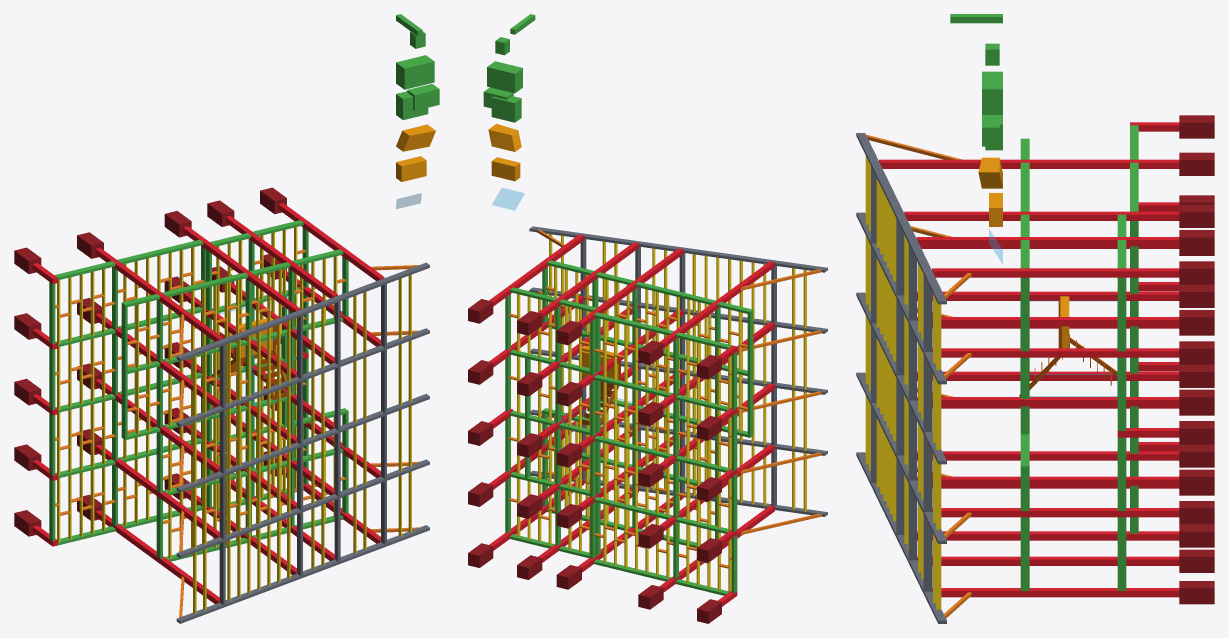
The model's file is tinker.obj.
3 views of the same model, side by side, from view 1: azimuth 30°, elevation 25°; view 2: azimuth 150°, elevation 25°; view 3: azimuth 270°, elevation 25° (orthographic). The views are drawn at different scales.
Visible parts, largest first — view 1: obj_1, obj_420, obj_2, obj_20, obj_15, obj_3, obj_421, obj_4, obj_11, obj_6, obj_419, obj_7 (+9 smaller); view 2: obj_1, obj_420, obj_2, obj_421, obj_3, obj_4, obj_419, obj_20, obj_15, obj_7, obj_21, obj_12 (+11 smaller); view 3: obj_1, obj_2, obj_3, obj_4, obj_9, obj_18, obj_23, obj_13, obj_17, obj_22, obj_8, obj_16 (+53 smaller).
Part boxes in pixels (x1,y1,x2,y2): obj_1: (95, 247, 222, 341); obj_420: (396, 84, 439, 119); obj_2: (183, 226, 300, 312); obj_20: (95, 510, 219, 603); obj_15: (95, 444, 219, 538); obj_3: (225, 216, 337, 298); obj_421: (396, 55, 434, 89); obj_4: (278, 203, 384, 280); obj_11: (95, 379, 219, 472); obj_6: (95, 313, 219, 407); obj_419: (396, 124, 435, 151); obj_7: (183, 292, 296, 378); obj_1: (659, 261, 774, 347); obj_420: (483, 87, 521, 122); obj_2: (578, 248, 683, 327); obj_421: (487, 61, 522, 93); obj_3: (538, 242, 638, 318); obj_4: (489, 234, 584, 306); obj_419: (488, 123, 521, 151); obj_20: (659, 505, 774, 592); obj_15: (659, 444, 774, 531); obj_7: (578, 310, 683, 389); obj_21: (578, 496, 683, 572); obj_12: (578, 372, 683, 450); obj_1: (879, 159, 1179, 168); obj_2: (904, 211, 1179, 220); obj_3: (916, 237, 1179, 246); obj_4: (932, 268, 1179, 277); obj_9: (932, 348, 1179, 357); obj_18: (932, 508, 1179, 517); obj_23: (932, 588, 1179, 597); obj_13: (917, 397, 1179, 406); obj_17: (917, 476, 1179, 485); obj_22: (917, 556, 1179, 565); obj_8: (917, 317, 1179, 326); obj_16: (917, 451, 1179, 460).
Size of the model in its own units: 132 by 192 by 102.
